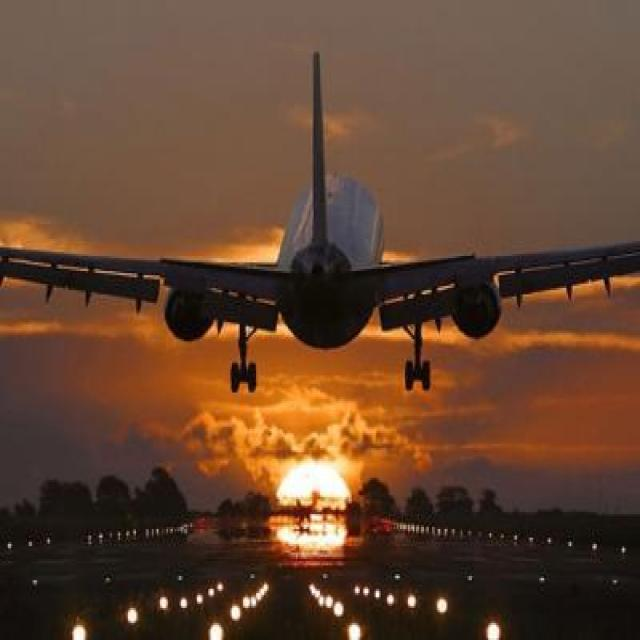other: (249, 408, 382, 504)
